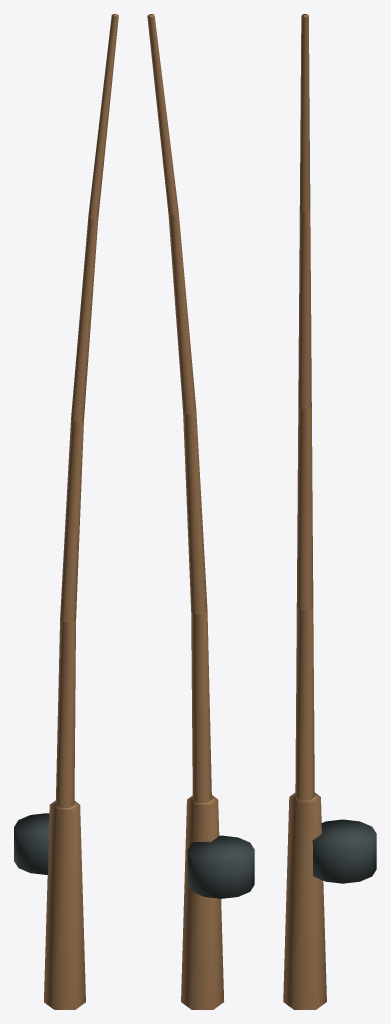
Rendered from quest_fishing_rod.glb.
3 views of the same model, side by side, from view 1: azimuth 30°, elevation 25°; view 2: azimuth 210°, elevation 25°; view 3: azimuth 270°, elevation 25° (orthographic). The views are drawn at different scales.
Size of the model in its own units: 0.1293 by 1.48 by 0.124.
